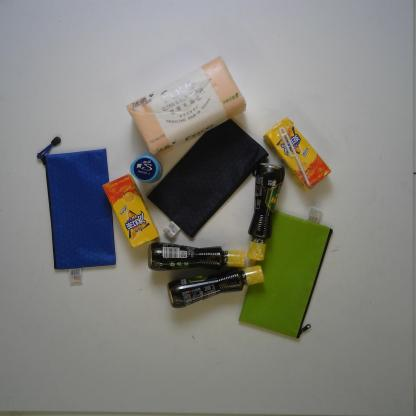Drink: (262, 114, 334, 191), (101, 172, 160, 250)
Gum: (128, 150, 164, 186)
Seasoner: (164, 262, 266, 312), (244, 160, 286, 262), (143, 240, 246, 272)
Stationery: (144, 110, 273, 238), (236, 202, 334, 340), (37, 136, 118, 288)
Tissue: (123, 54, 249, 160)
